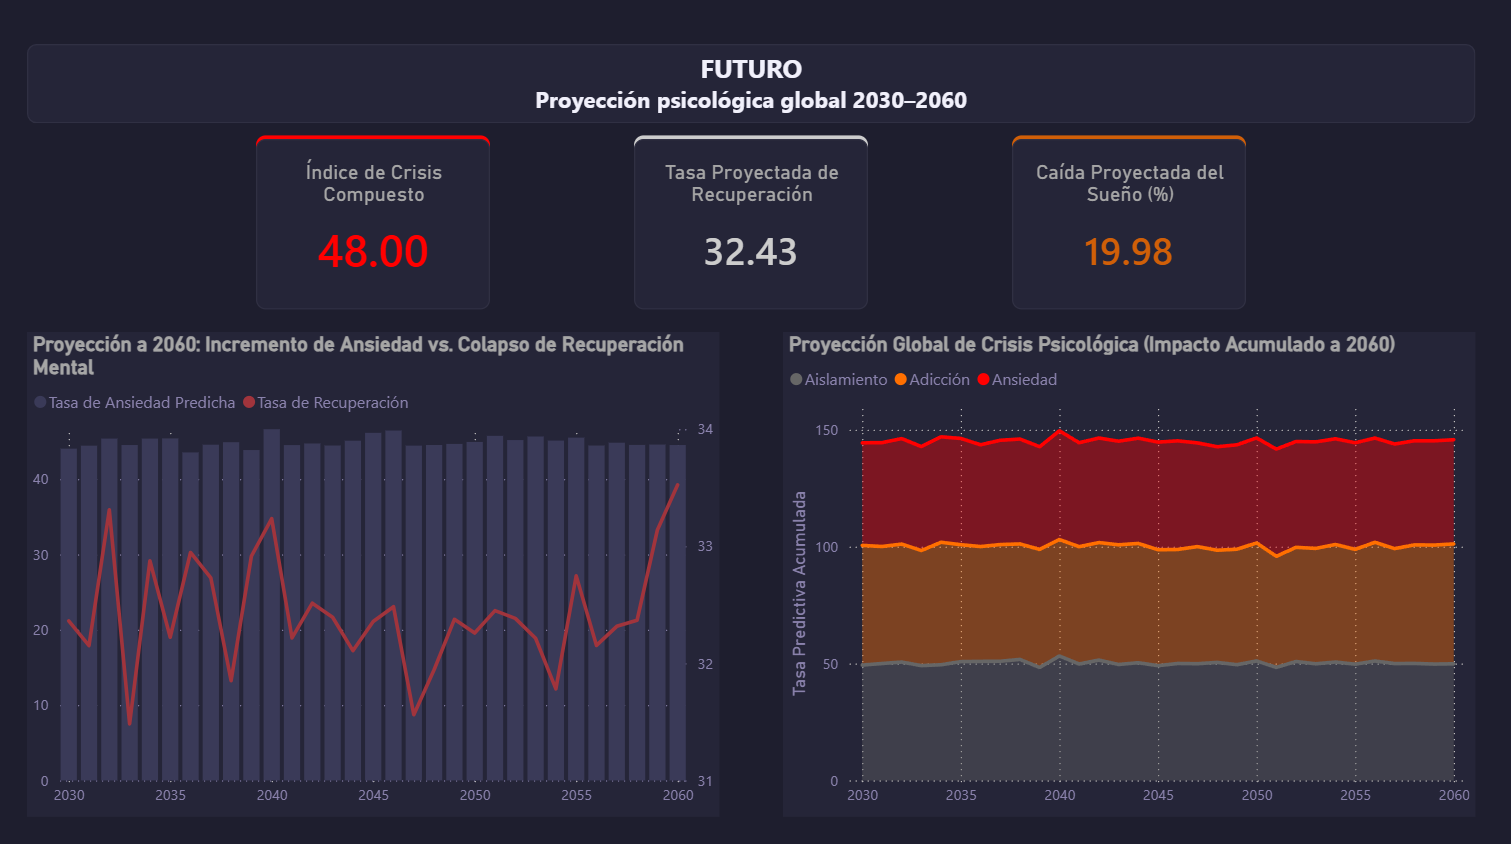

What the dashboard file says about the page in this screenshot:
{"tool":"powerbi","page":{"name":"P4","canvas":[1280,720],"ordinal":3},"visuals":[{"type":"shape","box":[33,46,1207,66],"z":0},{"type":"textbox","box":[33,46,1207,66],"z":1000},{"type":"lineClusteredColumnComboChart","title":"Proyección a 2060: Incremento de Ansiedad vs. Colapso de Recuperación Mental","fields":{"Category":["ANALISIS04.forecast_year"],"Y2":["Avg(ANALISIS04.avg_recovery_rate)"],"Y":["Avg(ANALISIS04.avg_predicted_anxiety)"]},"box":[33,286,577,404],"z":2000},{"type":"stackedAreaChart","title":"Proyección Global de Crisis Psicológica (Impacto Acumulado a 2060)","fields":{"Category":["ANALISIS20.forecast_year"],"Y":["Avg(ANALISIS20.avg_isolation)","Avg(ANALISIS20.avg_predicted_addiction)","Avg(ANALISIS20.avg_predicted_anxiety)"]},"box":[663,286,577,404],"z":3000},{"type":"cardVisual","title":"Índice de Crisis Compuesto","fields":{"Data":["Avg(ANALISIS20.crisis_composite_index)"]},"box":[224,125,195,142],"z":4000},{"type":"cardVisual","title":"Tasa Proyectada de Recuperación","fields":{"Data":["Avg(ANALISIS20.avg_recovery)"]},"box":[539,125,195,142],"z":5000},{"type":"cardVisual","title":"Caída Proyectada del Sueño (%)","fields":{"Data":["Avg(ANALISIS20.avg_sleep_decline)"]},"box":[854,125,195,142],"z":6000}]}

Visuals, with their boxes in screenshot pixels (x1, y1, x2, y2), scaled from the page's 1280x720 canvas onto the 1511x844 screenshot:
shape: left=39, top=54, right=1464, bottom=131
textbox: left=39, top=54, right=1464, bottom=131
"Proyección a 2060: Incremento de Ansiedad vs. Colapso de Recuperación Mental" lineClusteredColumnComboChart: left=39, top=335, right=720, bottom=809
"Proyección Global de Crisis Psicológica (Impacto Acumulado a 2060)" stackedAreaChart: left=783, top=335, right=1464, bottom=809
"Índice de Crisis Compuesto" cardVisual: left=264, top=147, right=495, bottom=313
"Tasa Proyectada de Recuperación" cardVisual: left=636, top=147, right=866, bottom=313
"Caída Proyectada del Sueño (%)" cardVisual: left=1008, top=147, right=1238, bottom=313
